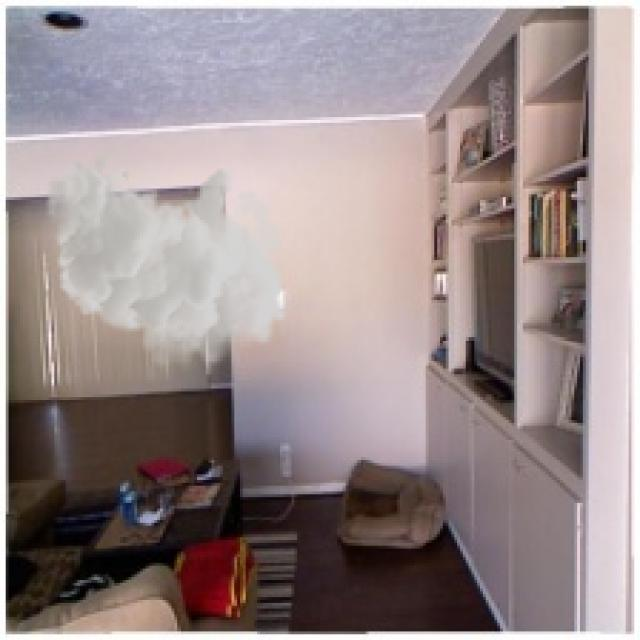smoke: (45, 154, 288, 374)
